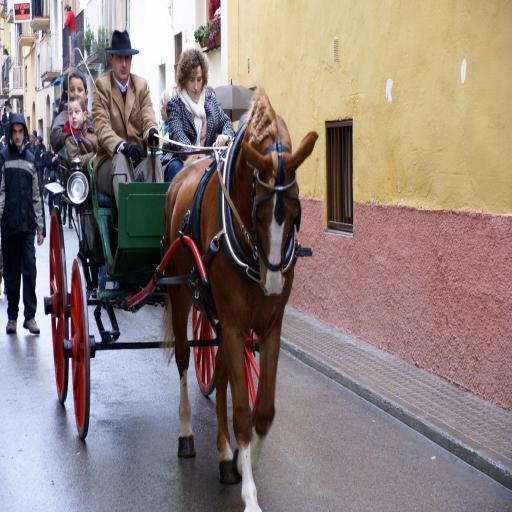horse: (164, 82, 320, 512)
